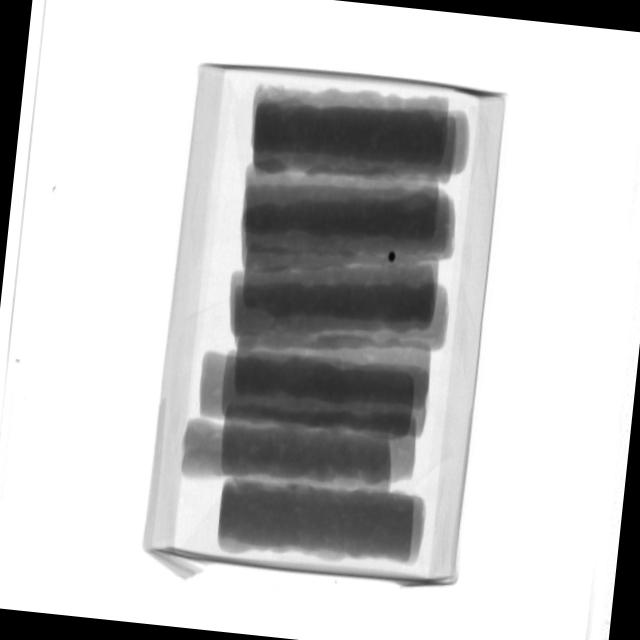ym: (389, 252, 397, 262)
